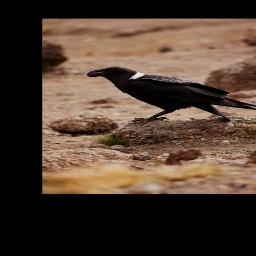Crow: (84, 65, 256, 129)
